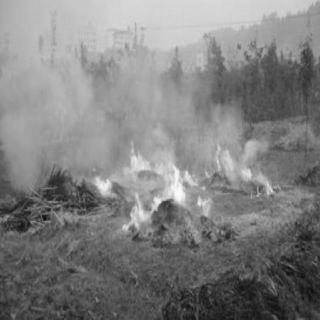Fire: (50, 87, 288, 249)
